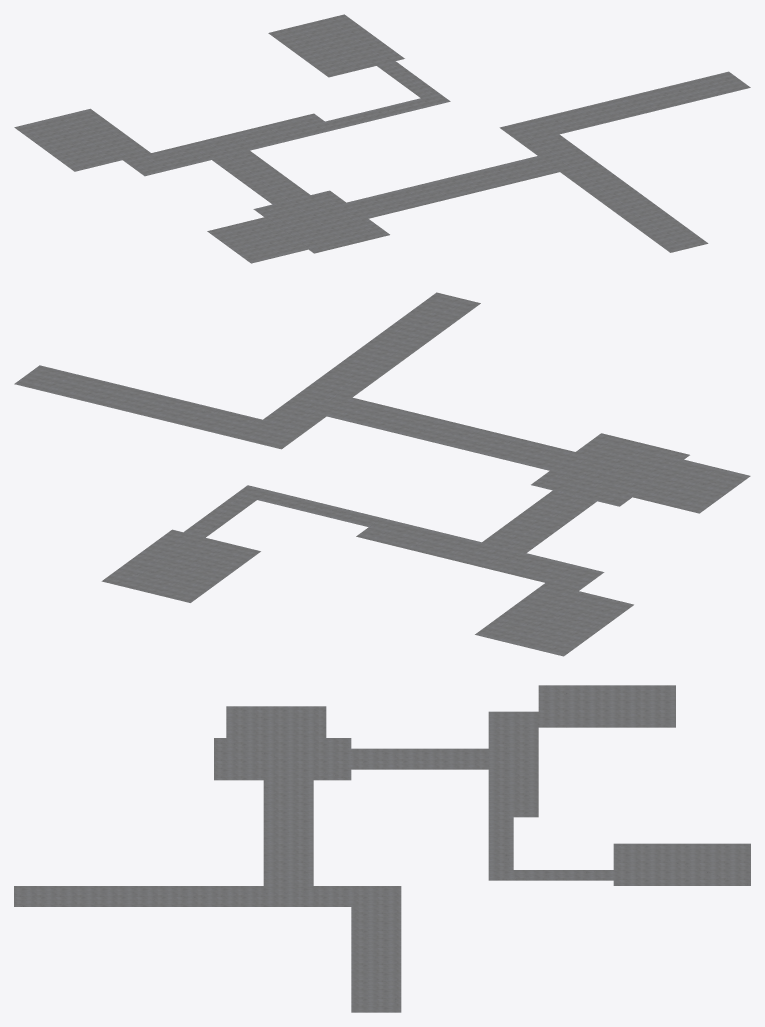
Rendered from Level1Roof.fbx.
3 renders of one model, top to bottom at view 1: azimuth 30°, elevation 25°; view 2: azimuth 150°, elevation 25°; view 3: azimuth 270°, elevation 25°, orthographic. The views are drawn at different scales.
Parts seen in each view (by area): view 1: Level1Roof; view 2: Level1Roof; view 3: Level1Roof.
Boxes of the visible parts, left/top/right/bottom form: Level1Roof: left=14, top=14, right=750, bottom=263; Level1Roof: left=14, top=292, right=750, bottom=656; Level1Roof: left=14, top=685, right=750, bottom=1012.
Size of the model in its own units: 62 by 0 by 59.
